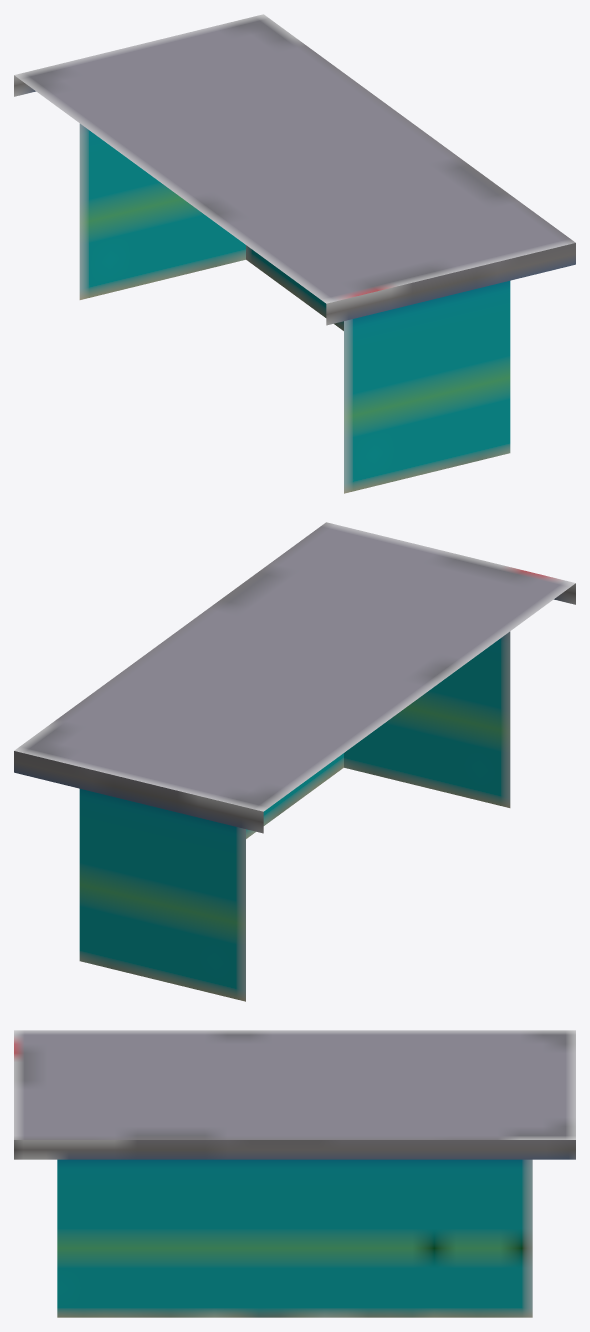
Rendered from Table.fbx.
The picture shows the model from 3 angles, top to bottom: view 1: azimuth 30°, elevation 25°; view 2: azimuth 150°, elevation 25°; view 3: azimuth 270°, elevation 25°; orthographic projection. The views are drawn at different scales.
Visible parts, largest first — view 1: Table; view 2: Table; view 3: Table.
Boxes of the visible parts, <box> form: Table: <box>14,14,575,493</box>; Table: <box>14,522,575,1001</box>; Table: <box>14,1030,575,1317</box>.
Bounding box in the file's own units: 120 × 100 × 260.
